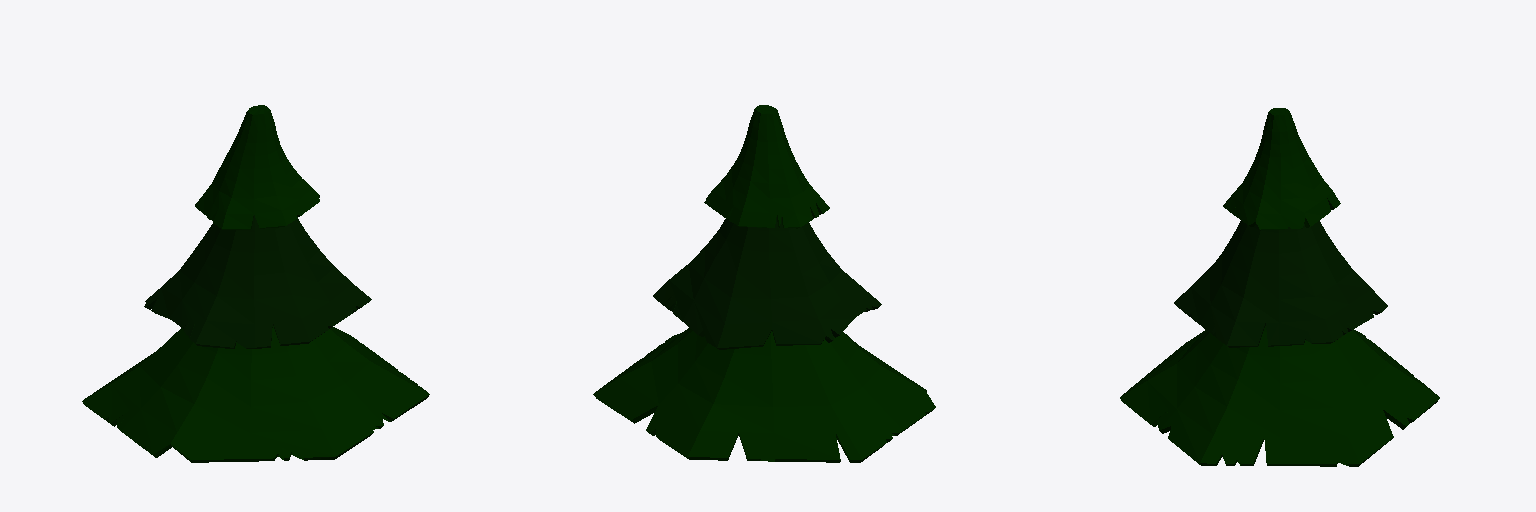
Rendered from cone_tier_3.obj.
The picture shows the model from 3 angles: view 1: azimuth 30°, elevation 25°; view 2: azimuth 150°, elevation 25°; view 3: azimuth 270°, elevation 25°; orthographic projection.
Visible parts, largest first — view 1: cone_tier_3; view 2: cone_tier_3; view 3: cone_tier_3.
Part boxes in pixels (x1,y1,x2,y2): cone_tier_3: (82, 105, 429, 462); cone_tier_3: (593, 105, 935, 462); cone_tier_3: (1120, 108, 1439, 466).
Size of the model in its own units: 0.8904 by 0.9181 by 0.9122.